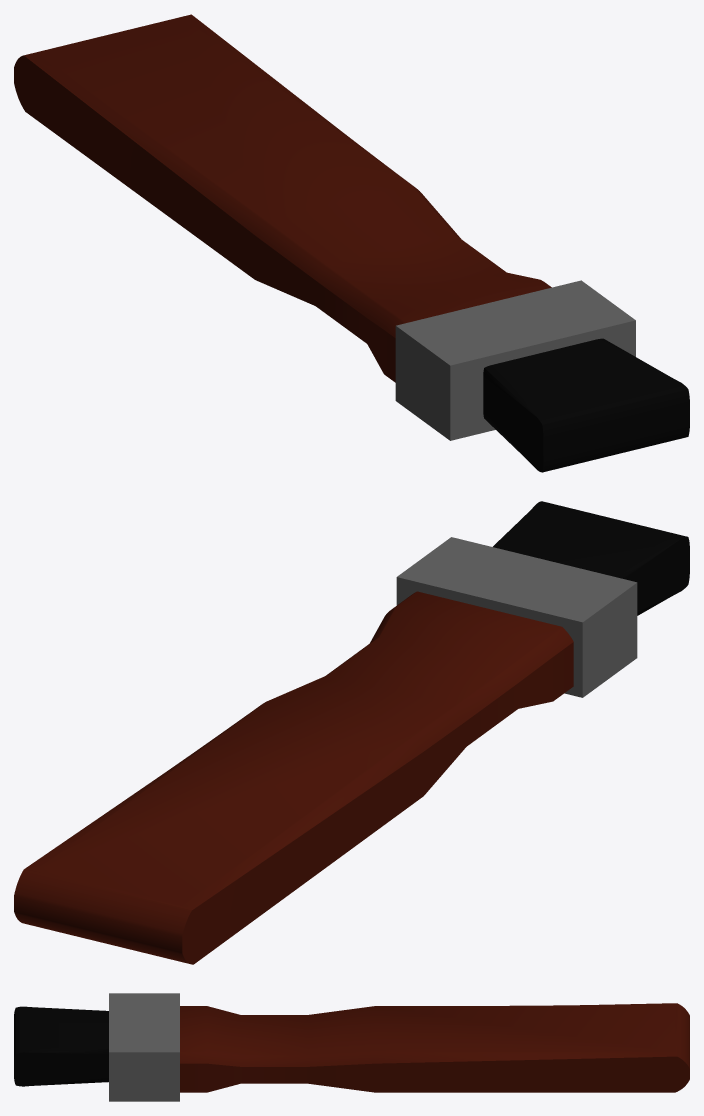
The model's file is PaintBrush.FBX.
The picture shows the model from 3 angles, top to bottom: view 1: azimuth 30°, elevation 25°; view 2: azimuth 150°, elevation 25°; view 3: azimuth 270°, elevation 25°; orthographic projection. The views are drawn at different scales.
Parts seen in each view (by area): view 1: PaintBrush, Brush; view 2: PaintBrush, Brush; view 3: PaintBrush, Brush.
Part boxes in pixels (x1,y1,x2,y2): PaintBrush: (14, 14, 635, 440); Brush: (483, 338, 689, 472); PaintBrush: (14, 537, 637, 964); Brush: (493, 501, 689, 615); PaintBrush: (109, 993, 689, 1101); Brush: (14, 1006, 108, 1086).
Bounding box in the file's own units: 2.08 × 0.8056 × 10.04.
